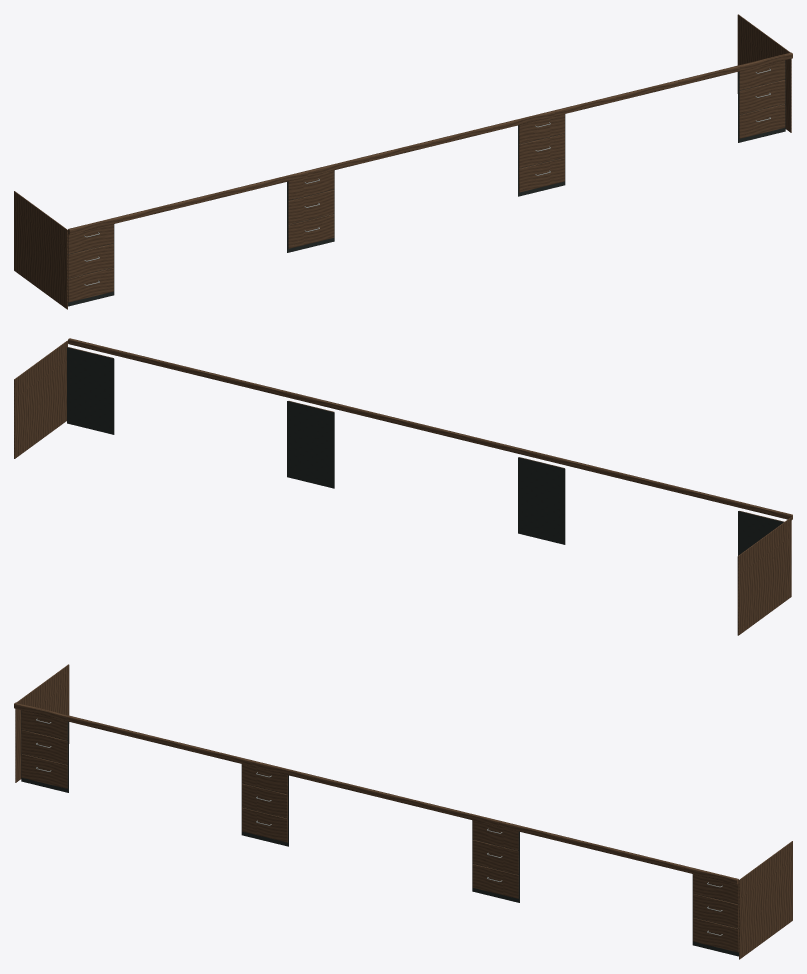
Rendered from SM_Saro1986_ConsoleTrim.fbx.
3 renders of one model, top to bottom at view 1: azimuth 30°, elevation 25°; view 2: azimuth 150°, elevation 25°; view 3: azimuth 330°, elevation 25°, orthographic.
Visible parts, largest first — view 1: SM_Saro1986_ConsoleTrim; view 2: SM_Saro1986_ConsoleTrim; view 3: SM_Saro1986_ConsoleTrim.
Boxes of the visible parts, x1,y1,x2,y2 form: SM_Saro1986_ConsoleTrim: (14,14,792,309); SM_Saro1986_ConsoleTrim: (14,338,792,635); SM_Saro1986_ConsoleTrim: (14,664,792,959).
Size of the model in its own units: 6.91 by 0.911 by 0.739.
